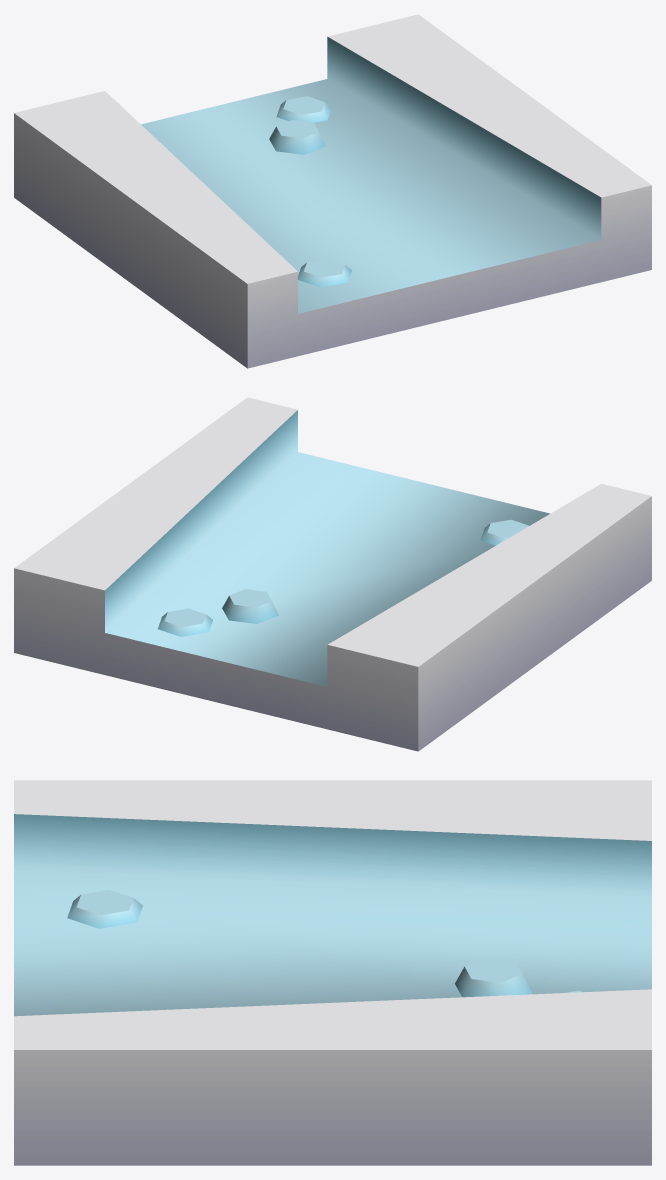
File: snow-tile-transition.fbx
The picture shows the model from 3 angles, top to bottom: view 1: azimuth 30°, elevation 25°; view 2: azimuth 150°, elevation 25°; view 3: azimuth 270°, elevation 25°; orthographic projection. The views are drawn at different scales.
Visible parts, largest first — view 1: snow-tile-transition; view 2: snow-tile-transition; view 3: snow-tile-transition.
Boxes of the visible parts, x1,y1,x2,y2 form: snow-tile-transition: (14,14,651,368); snow-tile-transition: (14,397,651,751); snow-tile-transition: (14,780,651,1165).
Bounding box in the file's own units: 100 × 20 × 100.
